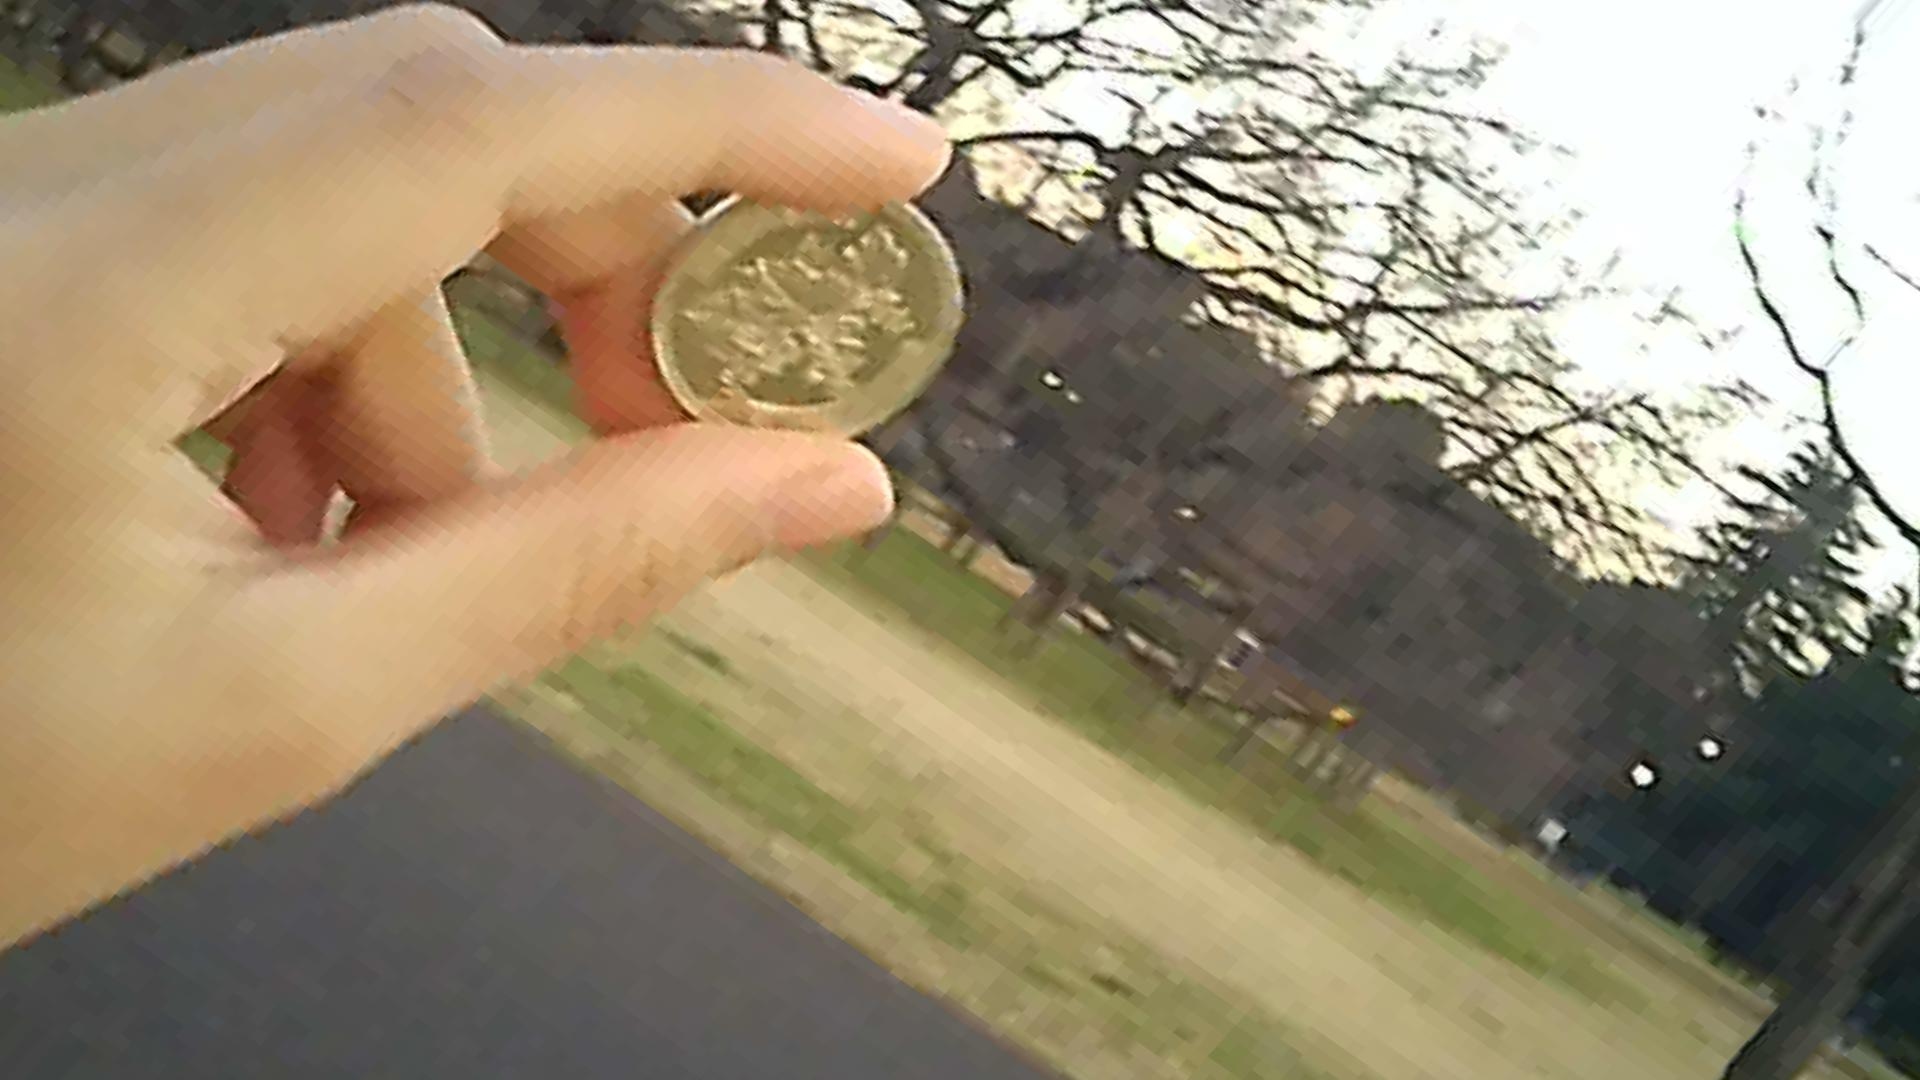500 Yen: (628, 160, 969, 448)
